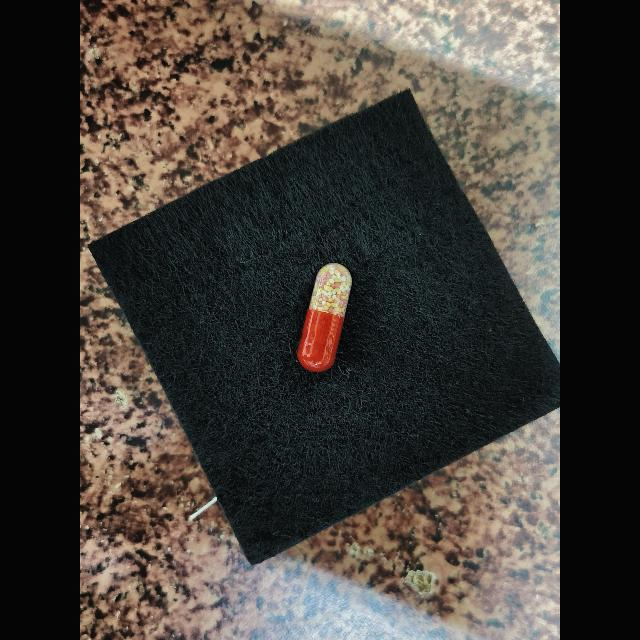Intact Capsule: (297, 263, 352, 372)
